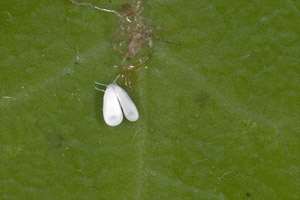whitefly: (91, 71, 141, 127)
